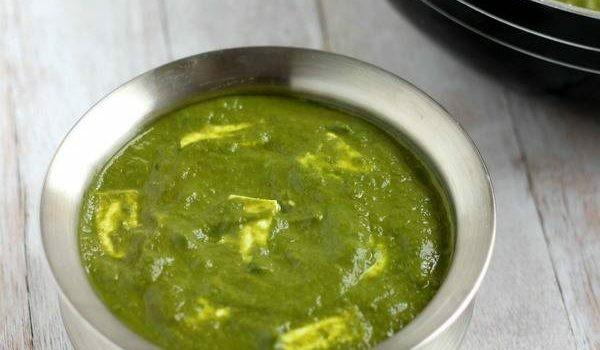PalakPaneer: (80, 94, 446, 350)
